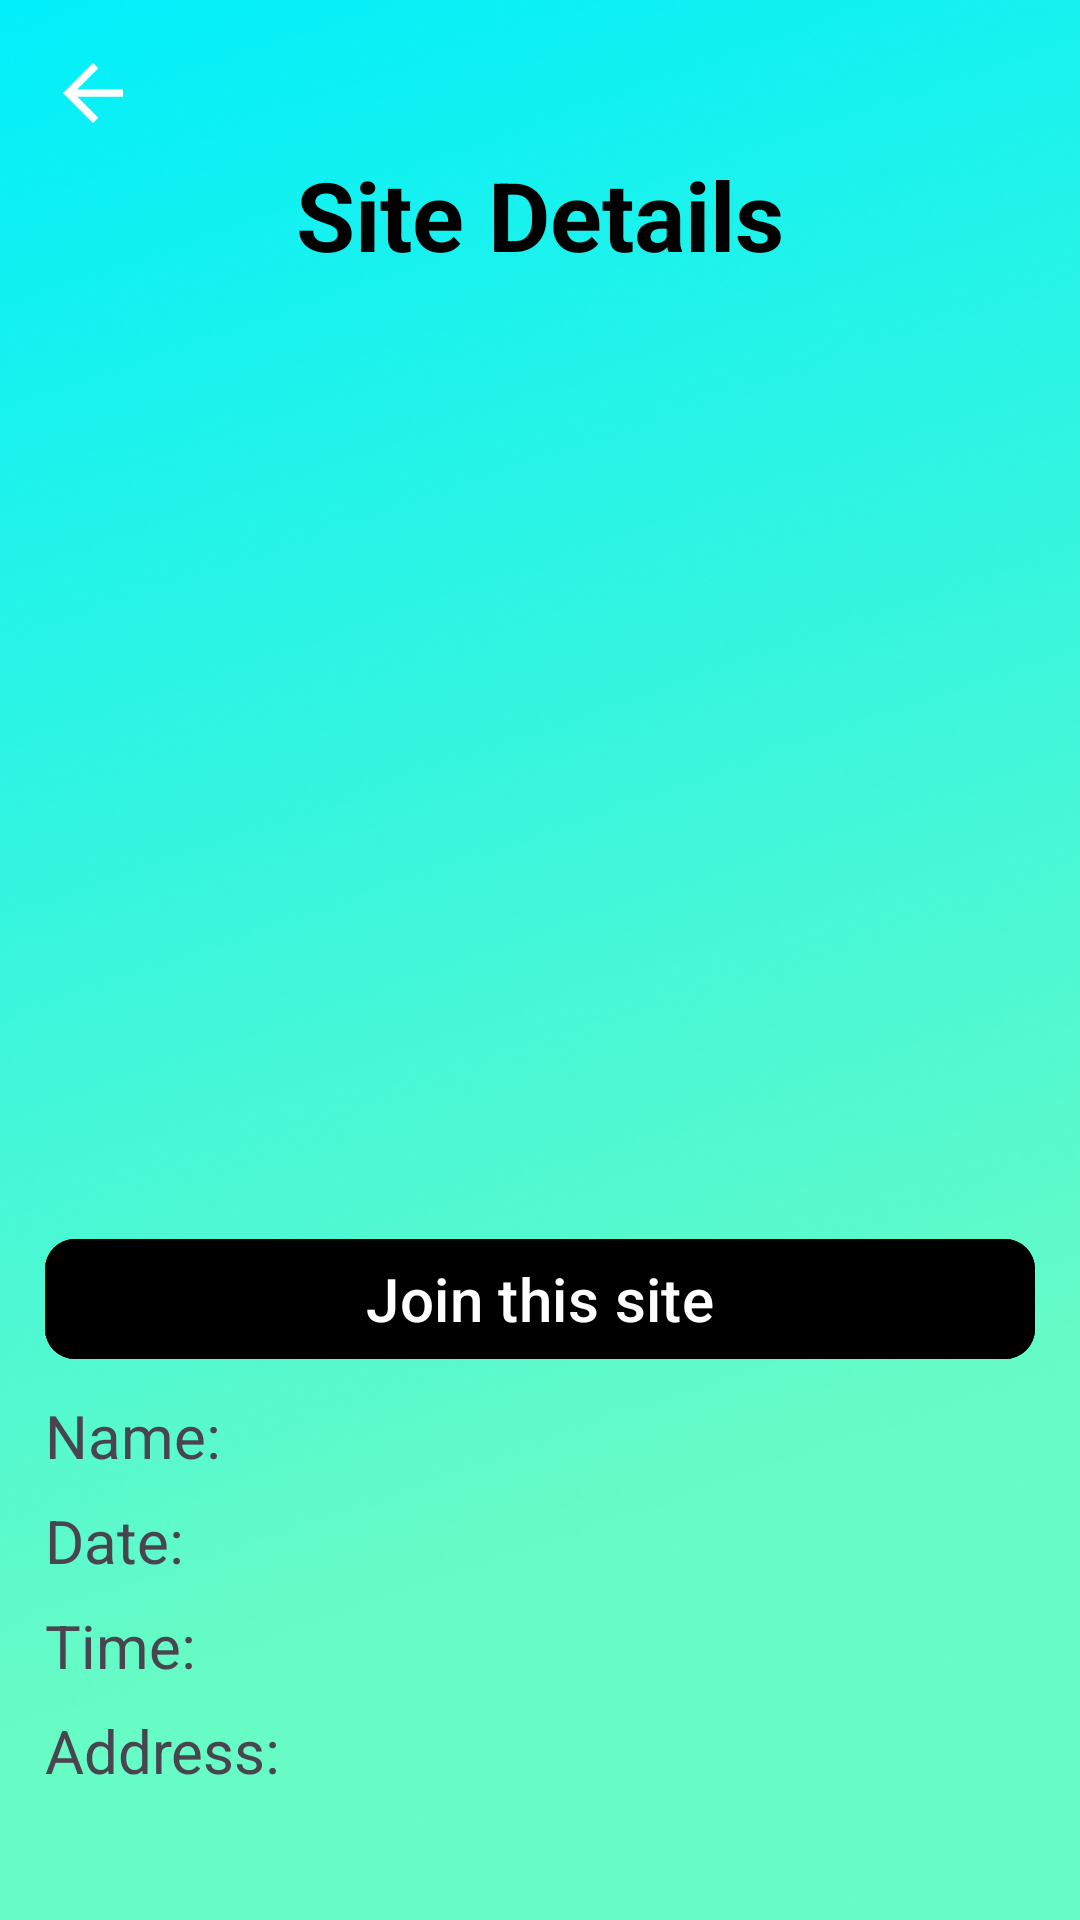

Screen size 1080*1920. Icon name, then its center in pixels as [x,y]:
back: [93,93]
